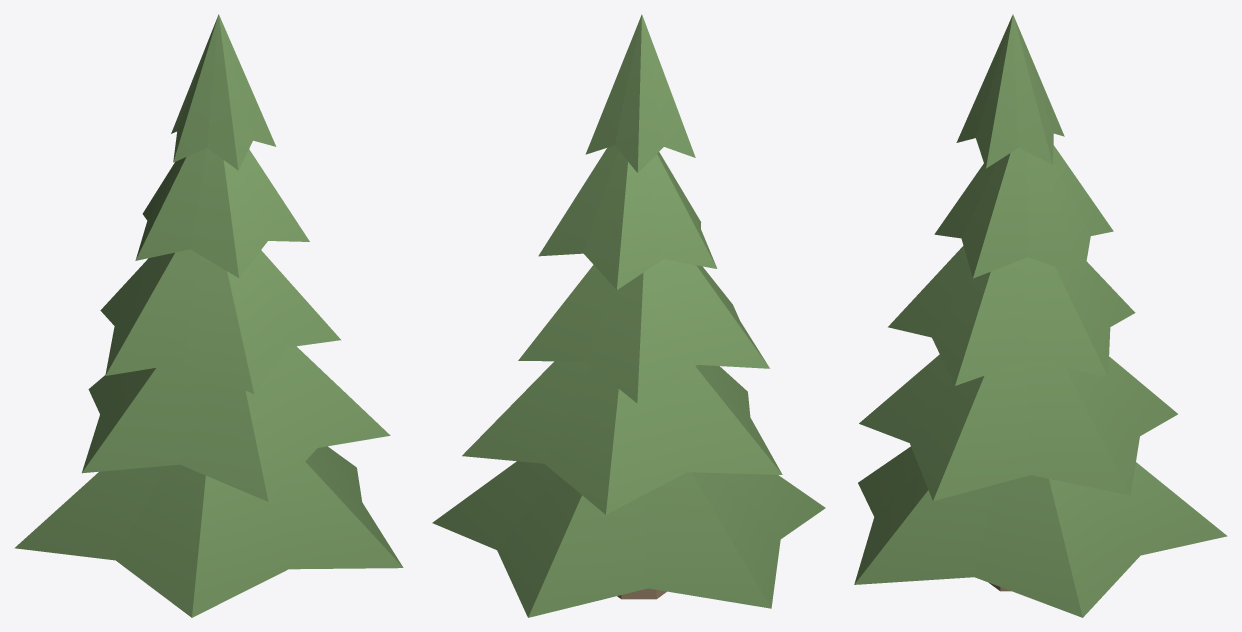
The model's file is tree_pine_1.glb.
The picture shows the model from 3 angles, left to right: view 1: azimuth 30°, elevation 25°; view 2: azimuth 150°, elevation 25°; view 3: azimuth 270°, elevation 25°; orthographic projection.
Visible parts, largest first — view 1: copa; view 2: copa; view 3: copa.
Part boxes in pixels (x1,y1,x2,y2): copa: [14, 14, 403, 617]; copa: [432, 14, 825, 617]; copa: [854, 14, 1227, 617].
Size of the model in its own units: 1.67 by 2.66 by 1.6.
